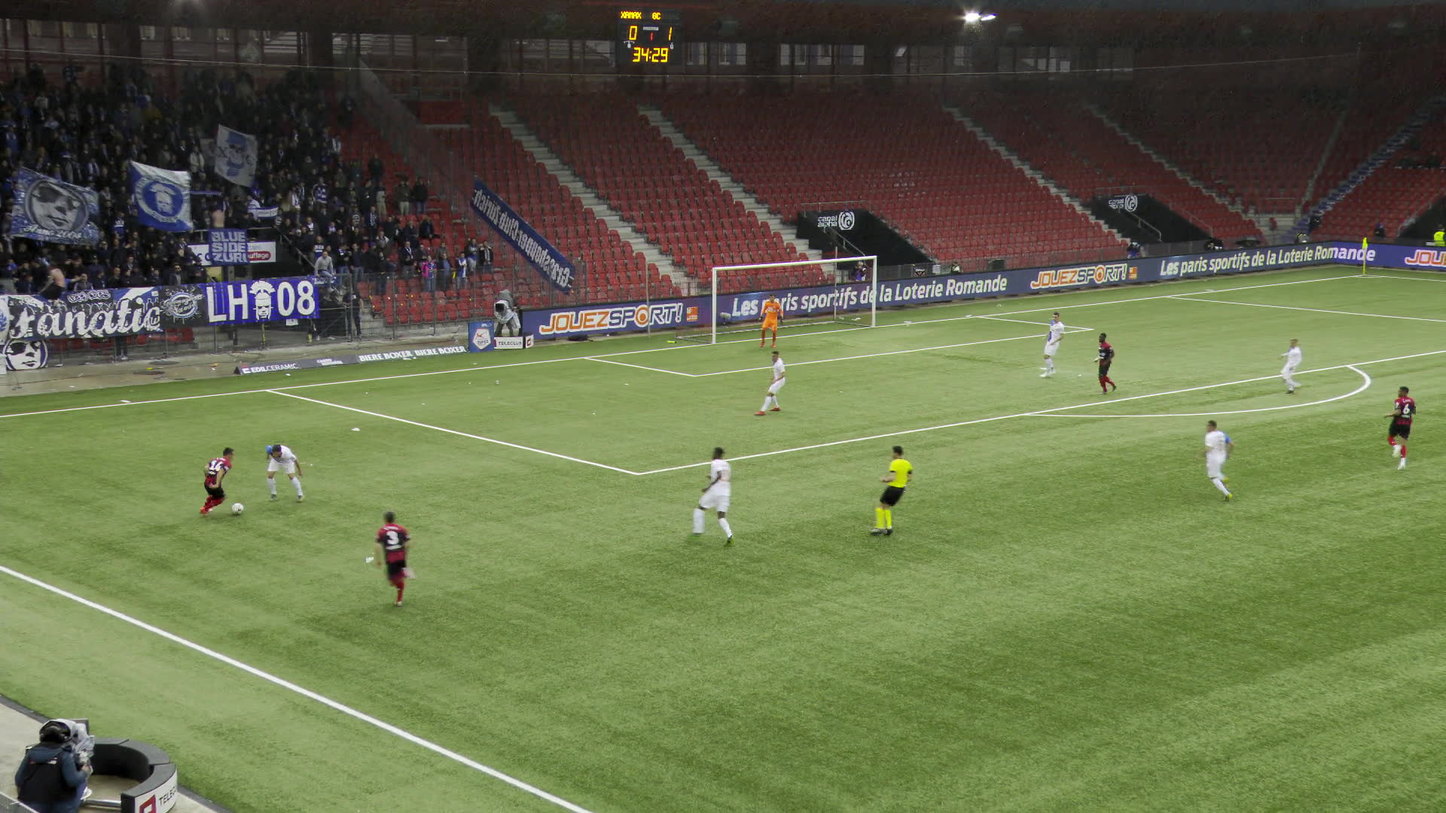ball: (231, 502, 243, 513)
player: (378, 513, 432, 611), (701, 446, 746, 542), (1200, 420, 1245, 497), (191, 445, 234, 519), (1384, 388, 1422, 465), (261, 441, 307, 501), (1271, 337, 1316, 394), (753, 350, 785, 414), (1093, 330, 1121, 394), (1039, 314, 1064, 379), (757, 294, 784, 347)
referee: (866, 448, 920, 535)
